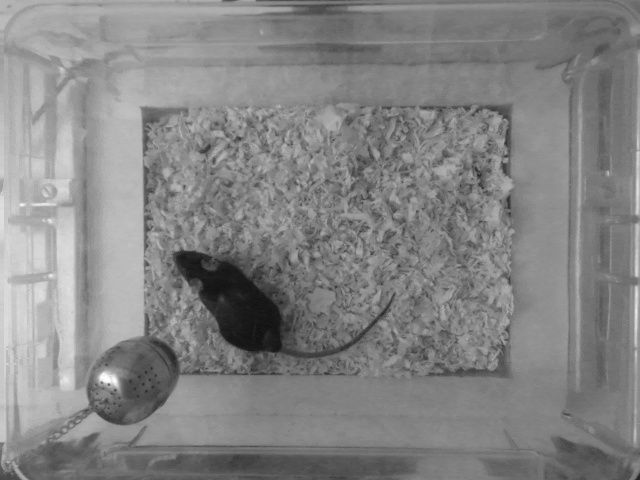mice: (171, 242, 391, 361)
